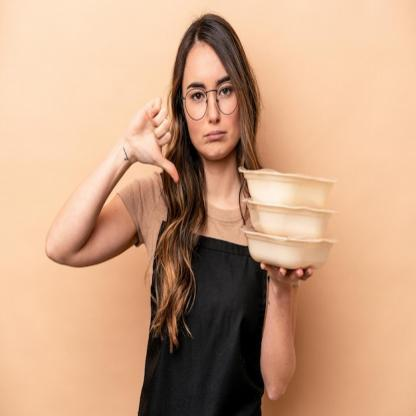thumb_down: (128, 92, 182, 188)
